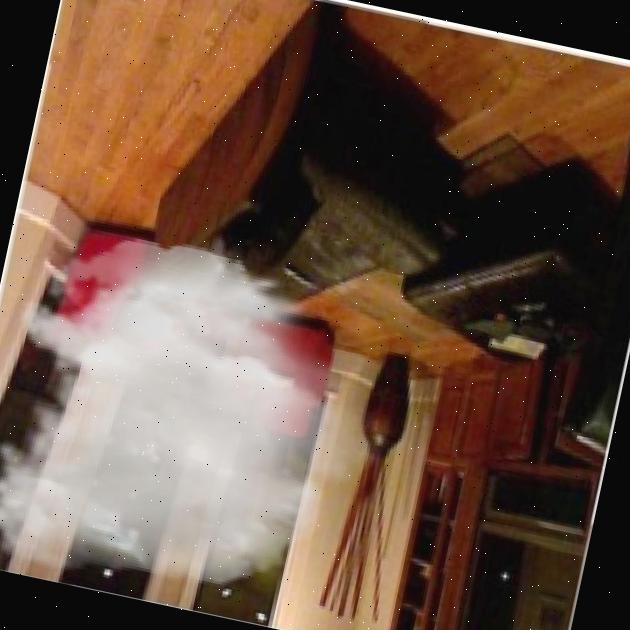smoke: (0, 210, 423, 630)
